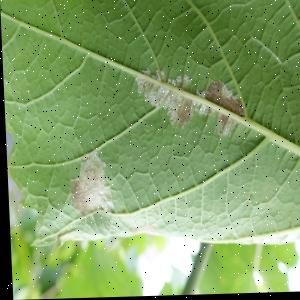Folha: (0, 0, 300, 254)
Fungo: (132, 66, 245, 140), (133, 68, 193, 132), (67, 152, 113, 218), (202, 80, 246, 139), (162, 75, 193, 130), (134, 68, 169, 109), (192, 90, 209, 118)
